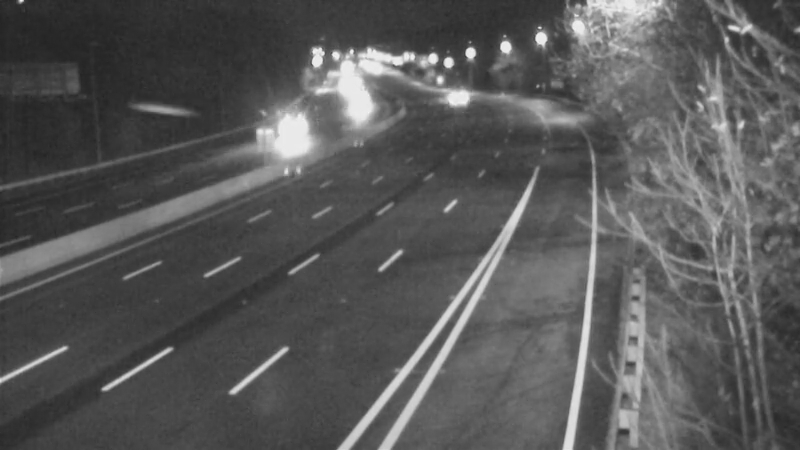vehicle: (432, 69, 482, 119), (269, 111, 319, 161), (325, 82, 375, 132)
